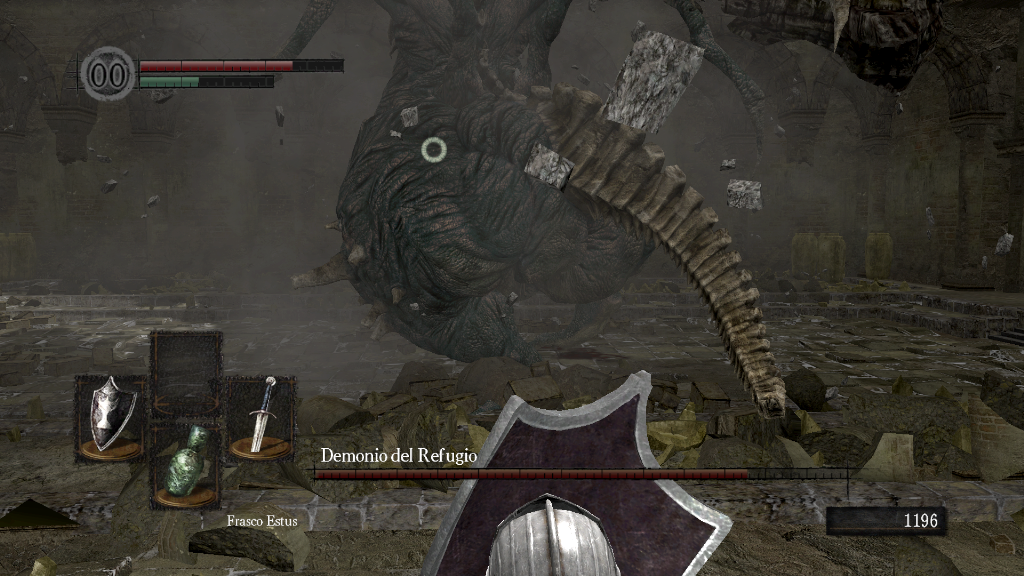asylumDemon: (271, 4, 814, 419)
bossHP: (314, 469, 847, 479)
health: (138, 58, 343, 71)
humanity: (80, 45, 136, 102)
player: (427, 369, 735, 576)
souls: (825, 506, 945, 536)
stamina: (138, 74, 274, 88)
